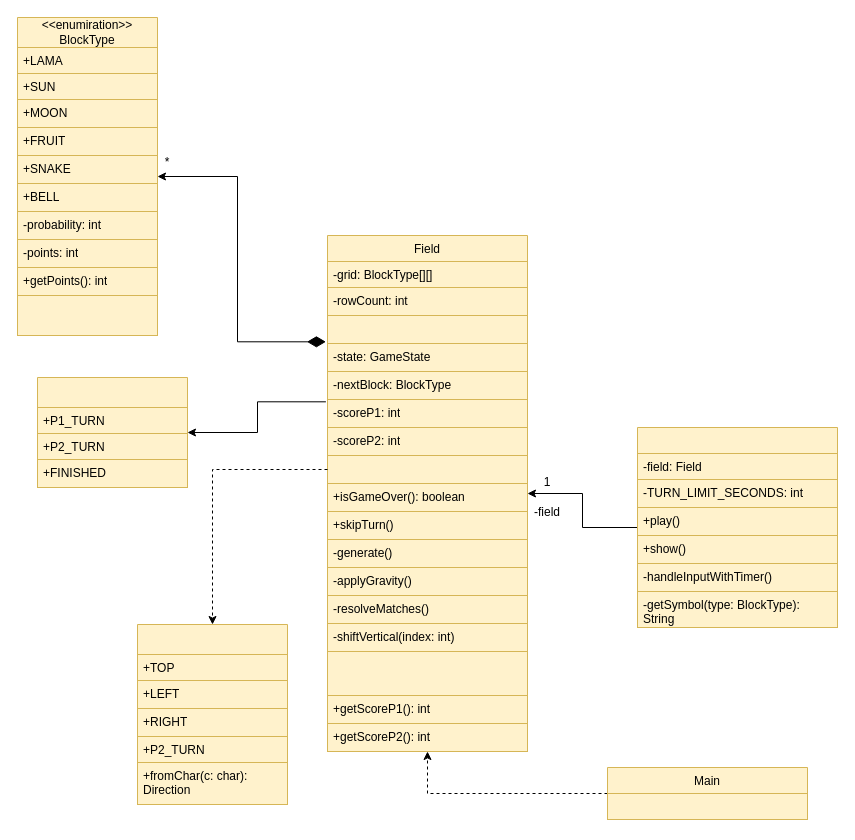
Some shapes in this 855 by 840 pixel diagram are drawn without their labels. The box of each missing label's shape, as (x1, y1, x2, y2) in pixels:
+getRandomWithWeights(): BlockType: (16, 294, 158, 336)
+main(args: String[]): (606, 792, 808, 820)
+pushBlock(command: String): (326, 454, 528, 484)
-columnCount: int: (326, 314, 528, 344)
-shiftHorizontal(index: int, fromLeft: boolean): (326, 650, 528, 696)
<<enumiration>> Direction: (136, 624, 288, 804)
<<enumiration>> GameState: (36, 376, 188, 488)
ConsoleUI: (636, 426, 838, 628)
